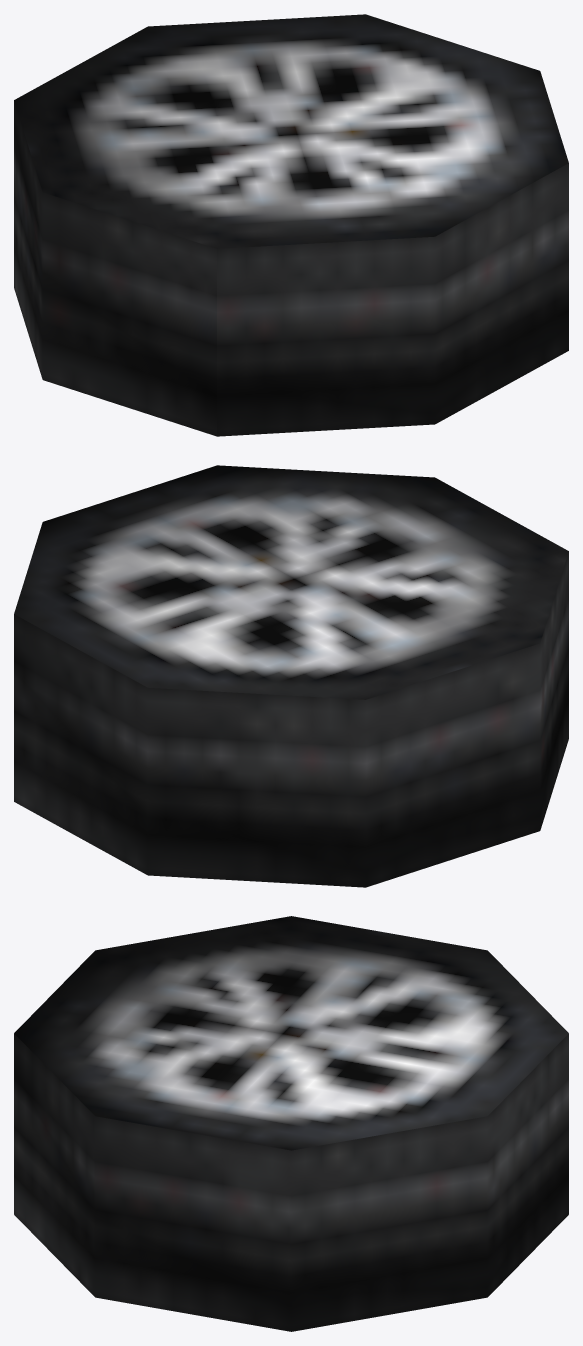
The model's file is wheel0.fbx.
The picture shows the model from 3 angles, top to bottom: view 1: azimuth 30°, elevation 25°; view 2: azimuth 150°, elevation 25°; view 3: azimuth 270°, elevation 25°; orthographic projection. The views are drawn at different scales.
Visible parts, largest first — view 1: wheel0; view 2: wheel0; view 3: wheel0.
Boxes of the visible parts, <box> form: wheel0: <box>14,14,568,436</box>; wheel0: <box>14,465,568,887</box>; wheel0: <box>14,916,568,1331</box>.
Size of the model in its own units: 80.05 by 80.05 by 28.86.
1 material, 1 textured.
